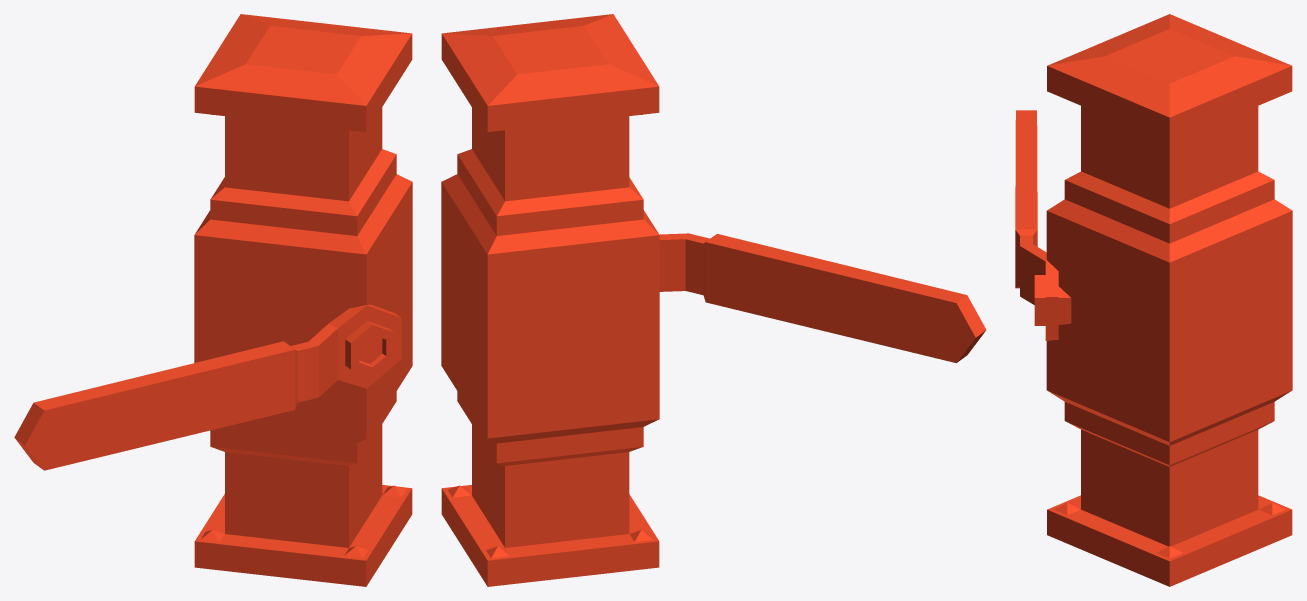
File: SM_Pipe_Lever_A_City.fbx
3 views of the same model, side by side, from view 1: azimuth 30°, elevation 25°; view 2: azimuth 150°, elevation 25°; view 3: azimuth 270°, elevation 25° (orthographic). The views are drawn at different scales.
Visible parts, largest first — view 1: SM_Pipe_Lever_A_City; view 2: SM_Pipe_Lever_A_City; view 3: SM_Pipe_Lever_A_City.
Part boxes in pixels (x1=…): SM_Pipe_Lever_A_City: x1=14, y1=14, x2=412, y2=586; SM_Pipe_Lever_A_City: x1=441, y1=14, x2=986, y2=586; SM_Pipe_Lever_A_City: x1=1015, y1=14, x2=1292, y2=586.
Bounding box in the file's own units: 0.1989 × 0.204 × 0.105.
